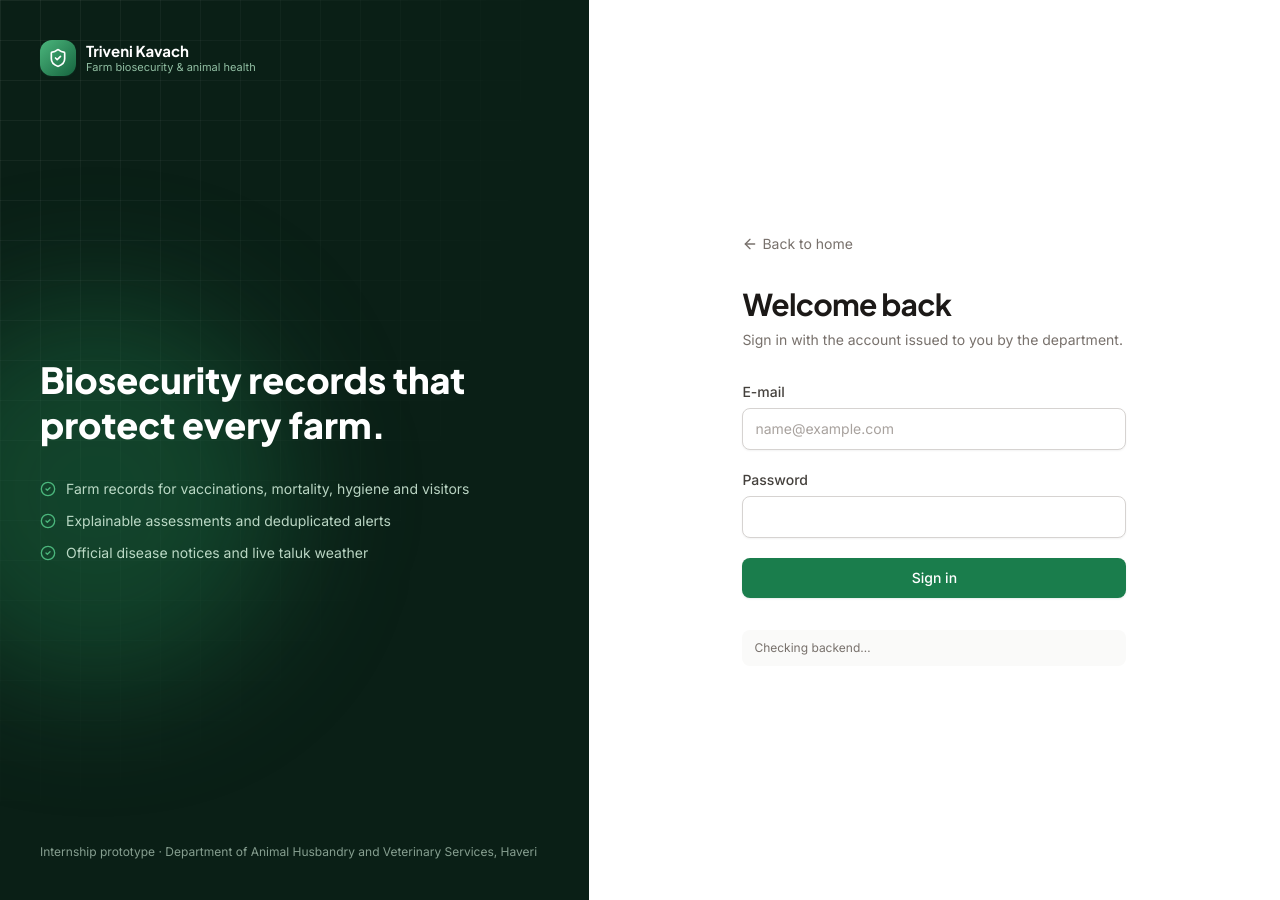
Test: LoginPage › shows the server error for bad credentials and the backend status
Type "a@b.example" into the field labelled "E-mail" at x=934, y=429, box [742,408,1126,450]
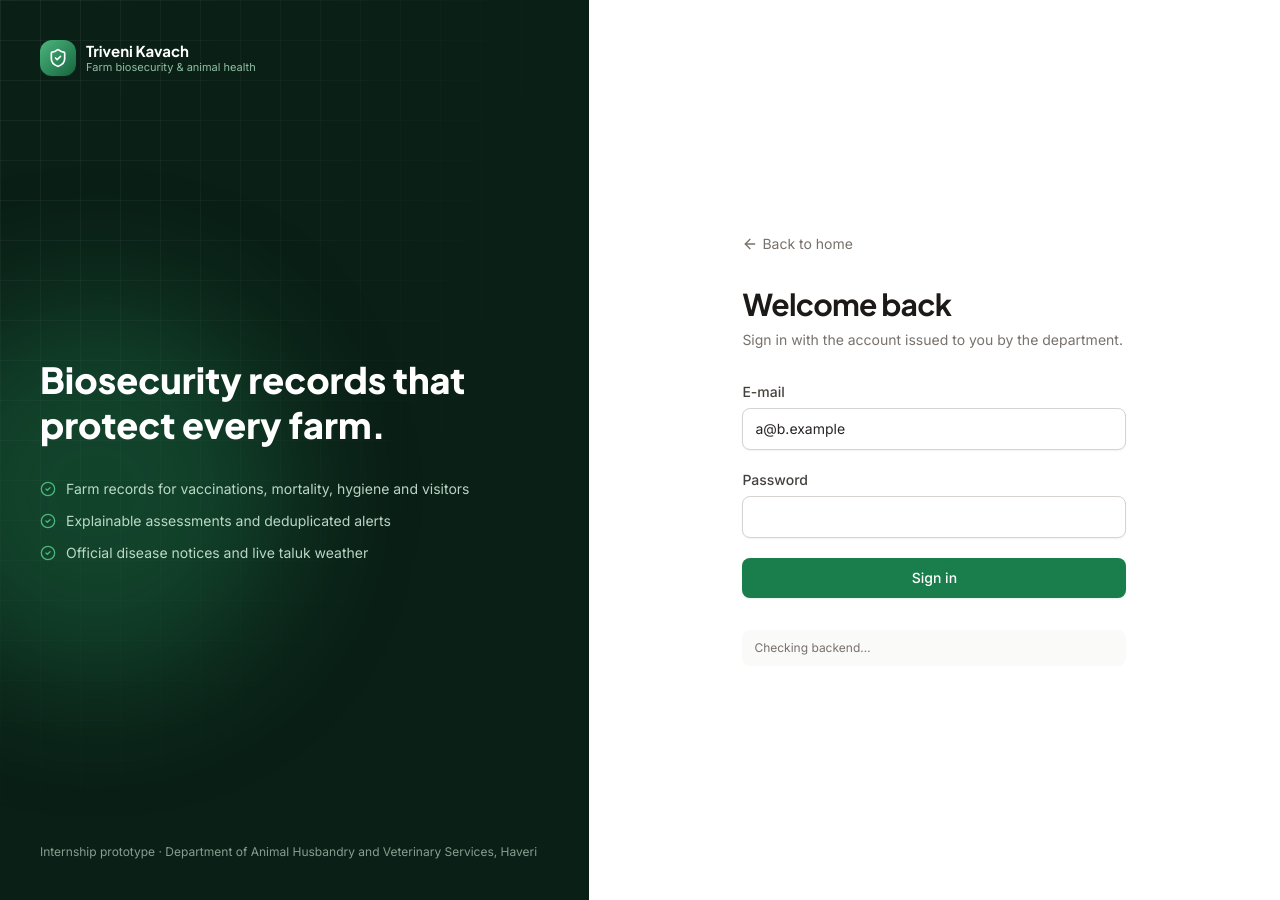
Type "wrong" into the password field labelled "Password" at x=934, y=517, box [742,496,1126,538]
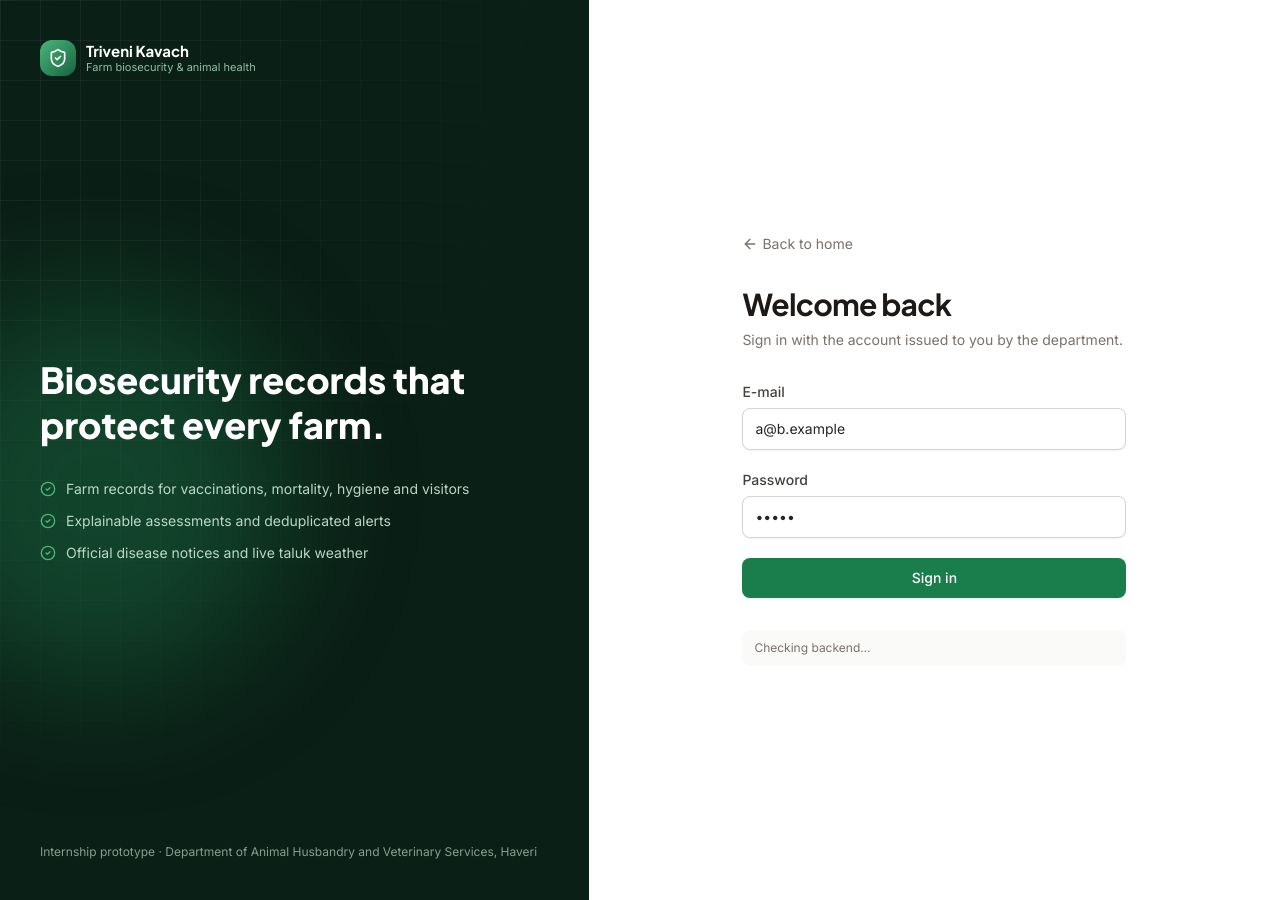
Click the button "Sign in" at x=934, y=578, box [742,558,1126,598]
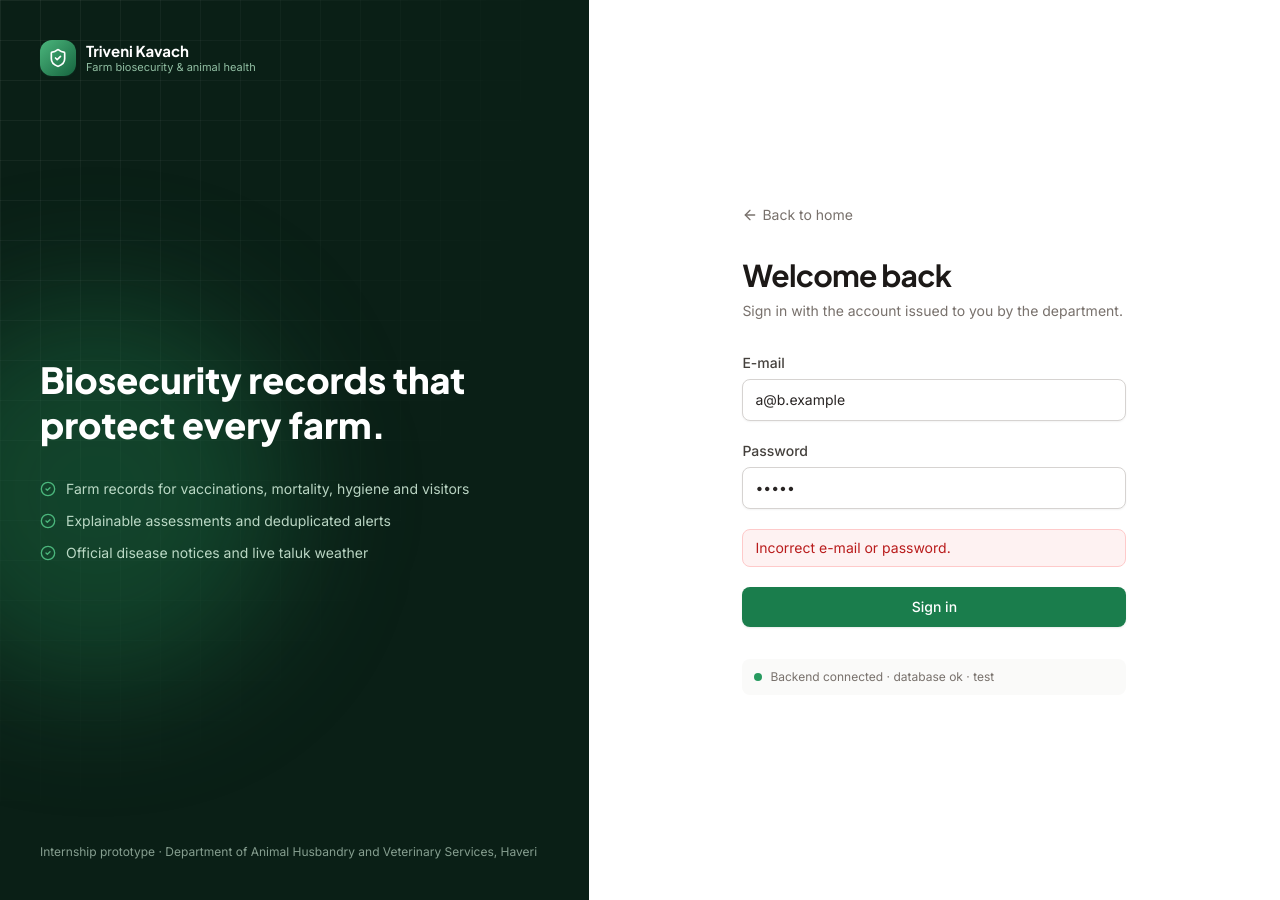
Check: the text "Incorrect e-mail or password." is shown, box [742,529,1126,567]
Check: the text "Backend connected · database ok · test" is shown, box [742,659,1126,695]
